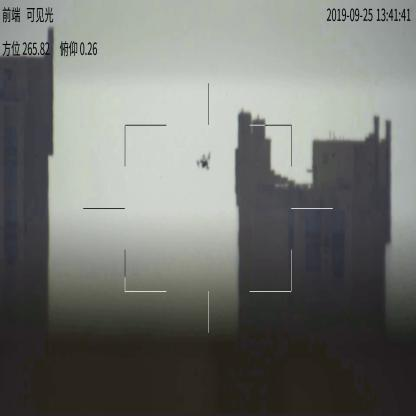uav: (196, 150, 216, 176)
